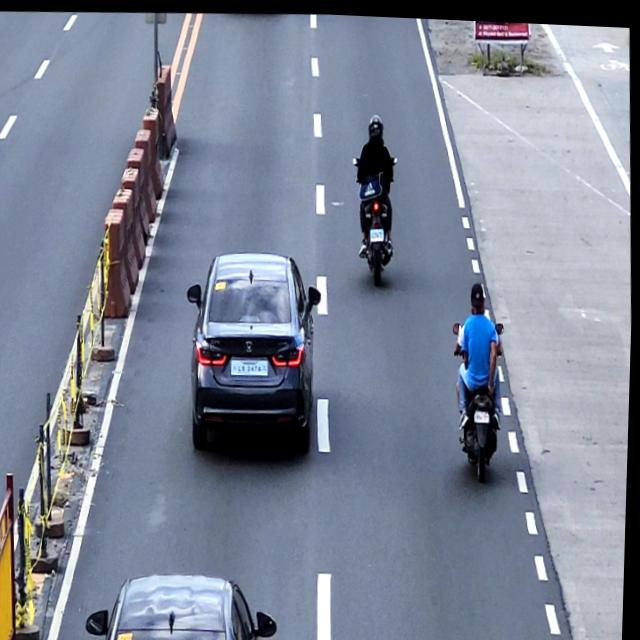Car: (183, 244, 328, 453), (86, 564, 282, 640)
License-Plate: (230, 355, 271, 375), (475, 404, 492, 420), (369, 225, 386, 238)
Motorcycle: (450, 315, 511, 480), (349, 149, 402, 284)
